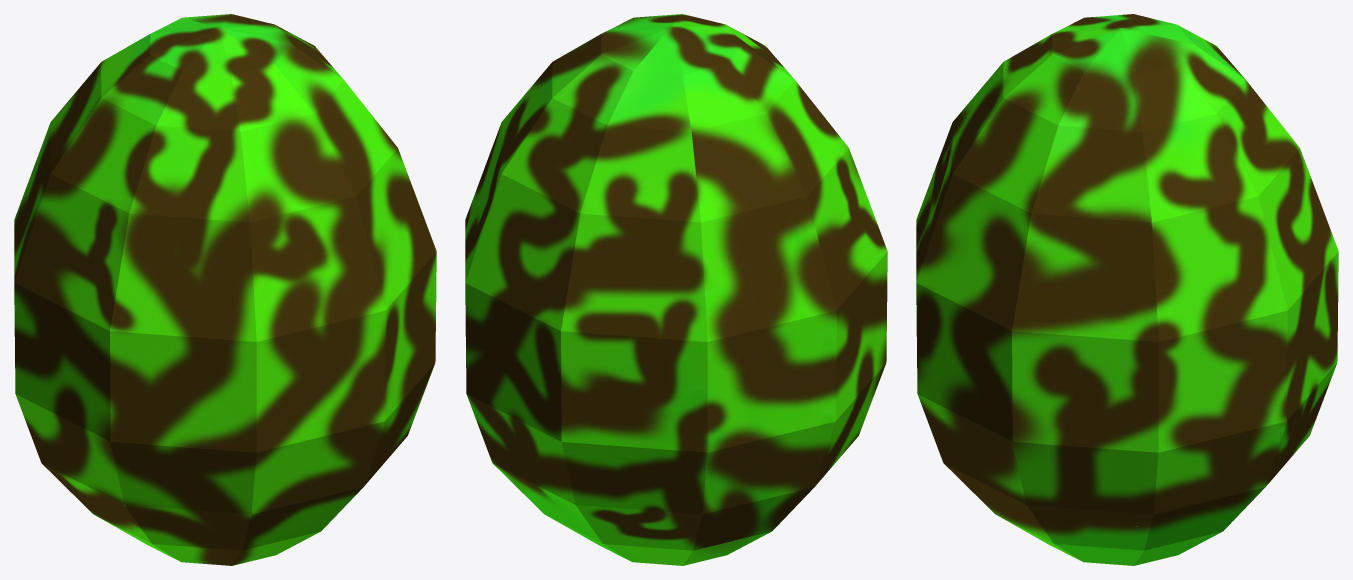
Rendered from egg_twig2.glb.
The picture shows the model from 3 angles, left to right: view 1: azimuth 30°, elevation 25°; view 2: azimuth 150°, elevation 25°; view 3: azimuth 270°, elevation 25°; orthographic projection.
Visible parts, largest first — view 1: Ei; view 2: Ei; view 3: Ei.
Part boxes in pixels (x1=…): Ei: x1=14, y1=14, x2=436, y2=565; Ei: x1=465, y1=14, x2=887, y2=565; Ei: x1=916, y1=14, x2=1338, y2=565.
Bounding box in the file's own units: 0.3486 × 0.4649 × 0.3433.
Materials: 1 (1 with a texture image).
